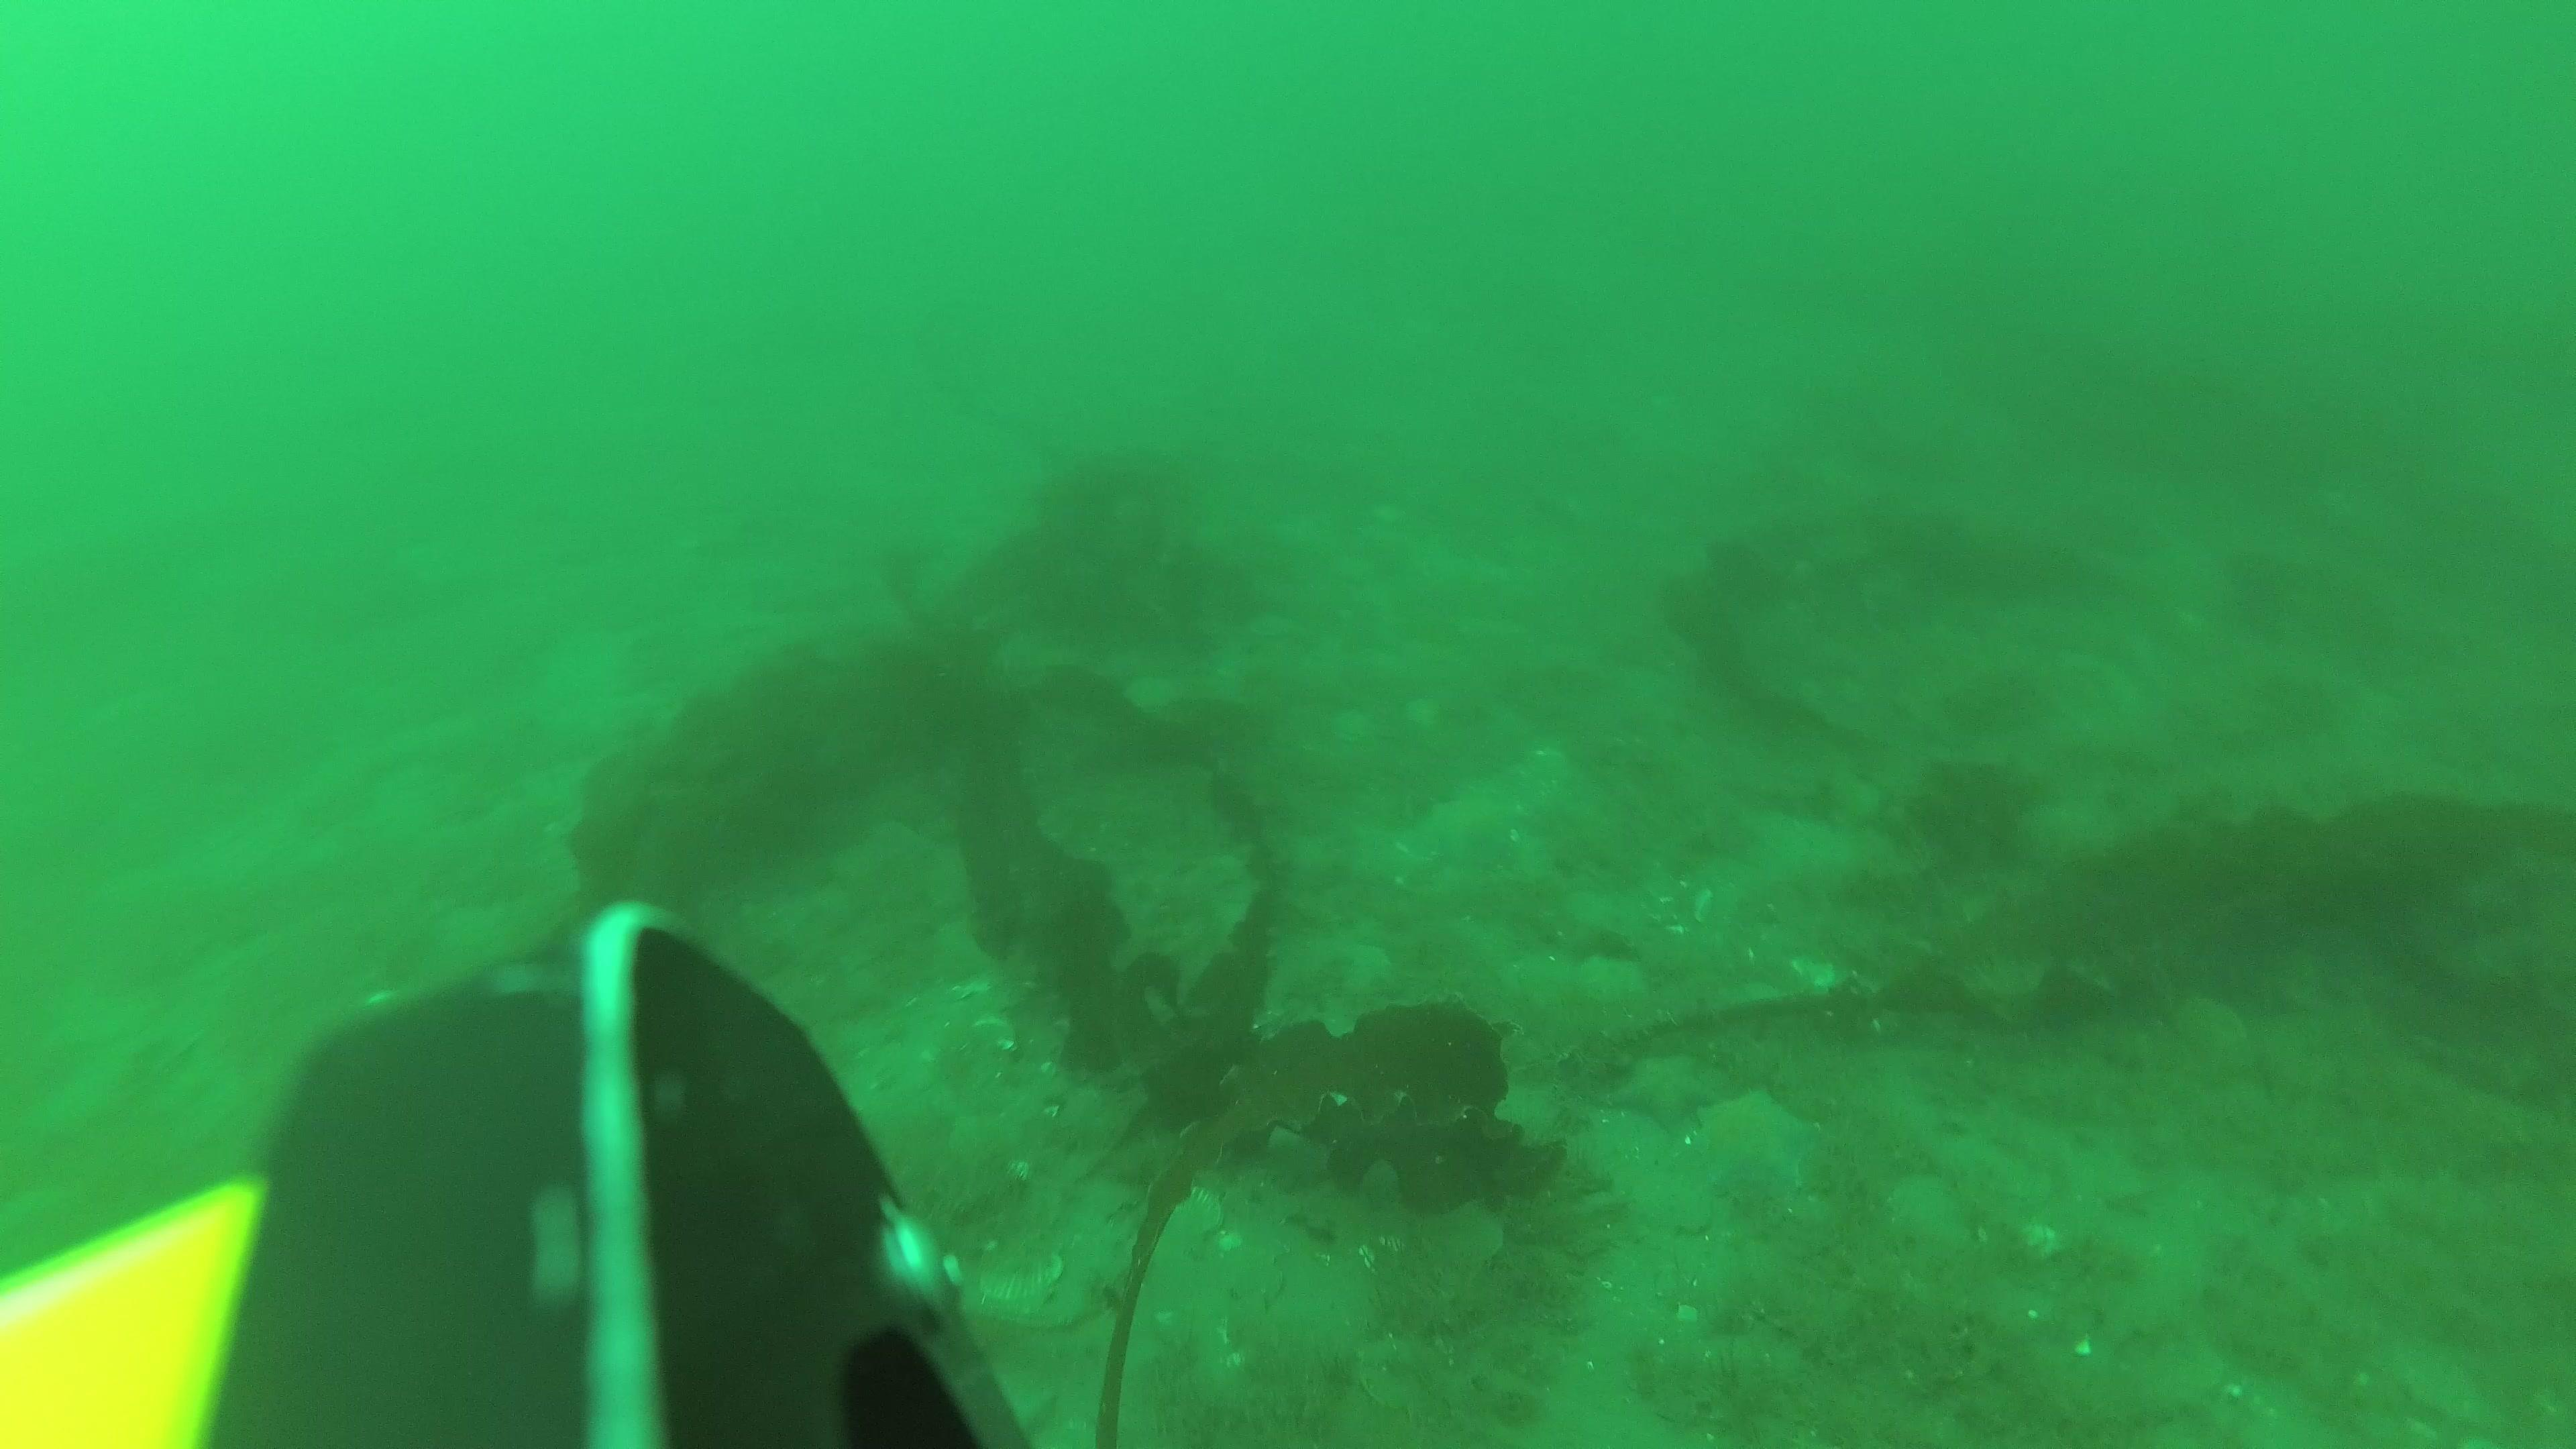scallop: (1417, 1194, 1513, 1279), (1877, 1171, 1962, 1254), (977, 1237, 1065, 1313), (1155, 1177, 1233, 1249)
starfish: (1688, 1086, 1815, 1200), (1603, 1040, 1729, 1138)
